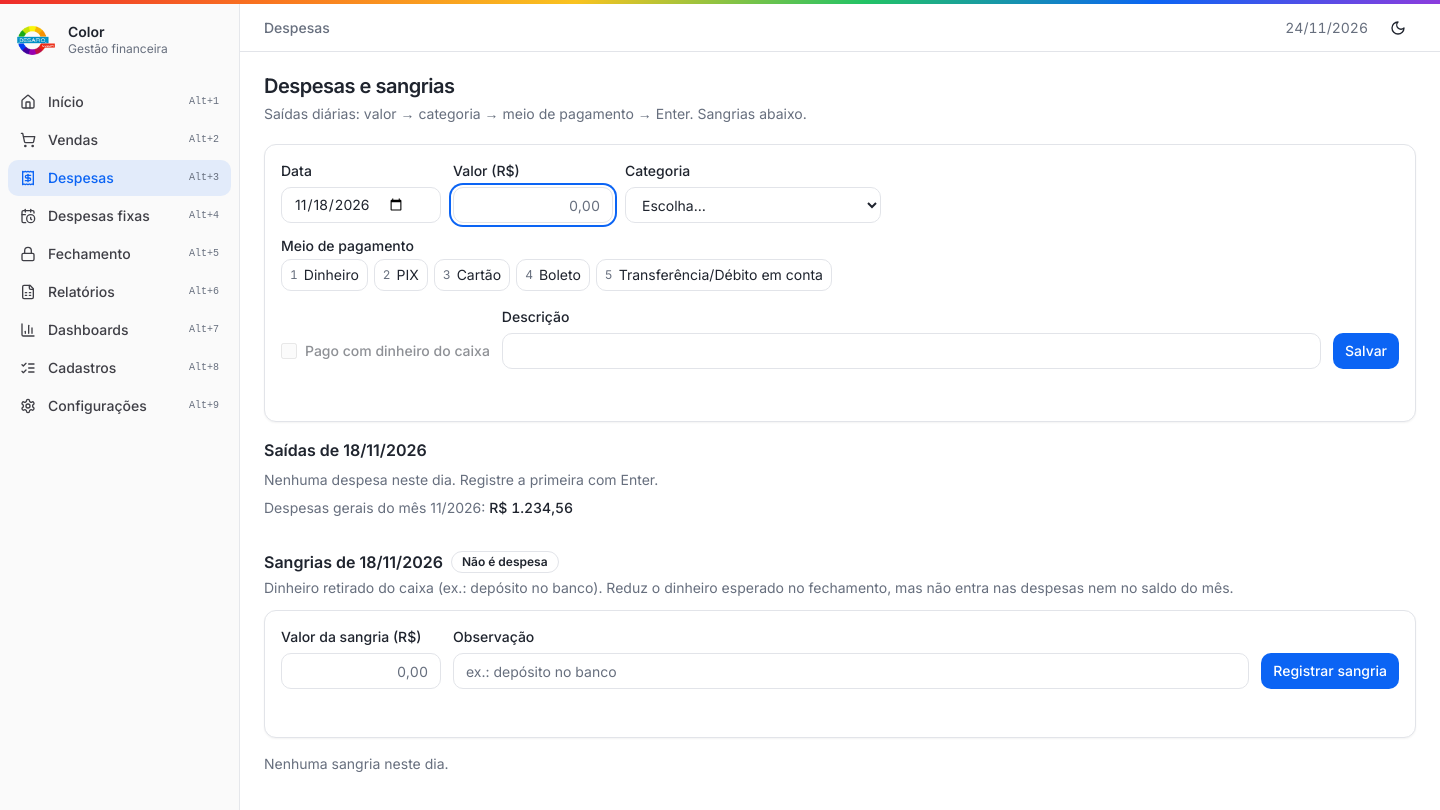
Despesas (FR-06) › FR-06: saves R$ 45,00 in Abastecimento moto, cash from the till; keeps the date and returns focus to Valor
Check: the date field labelled "Data" holds "2026-11-18", box [281,187,441,223]
In the field labelled "Valor (R$)": (533, 205) [453,187,613,223], type "45"
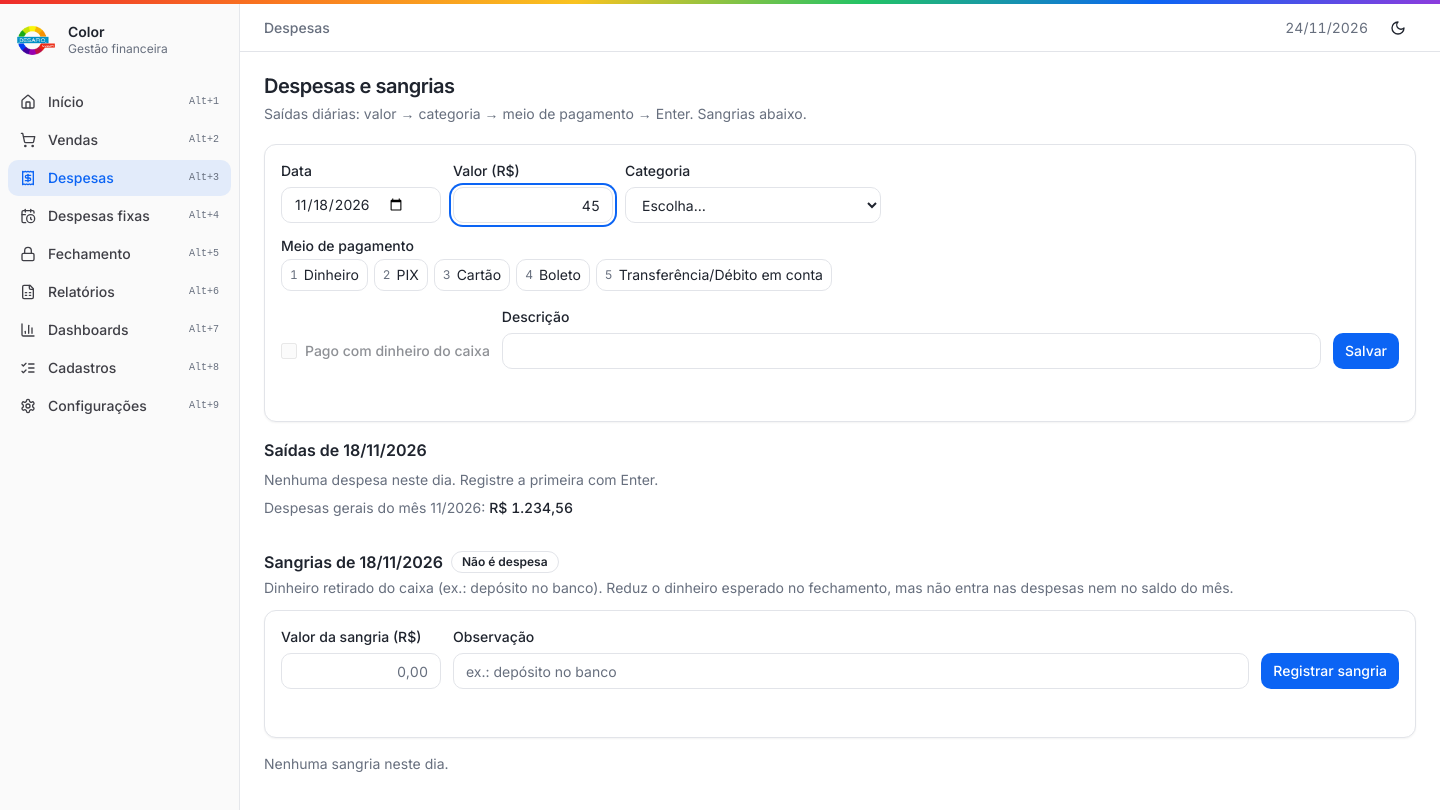
Select "Abastecimento moto" in the dropdown labelled "Categoria": (753, 205) [625,187,881,223]
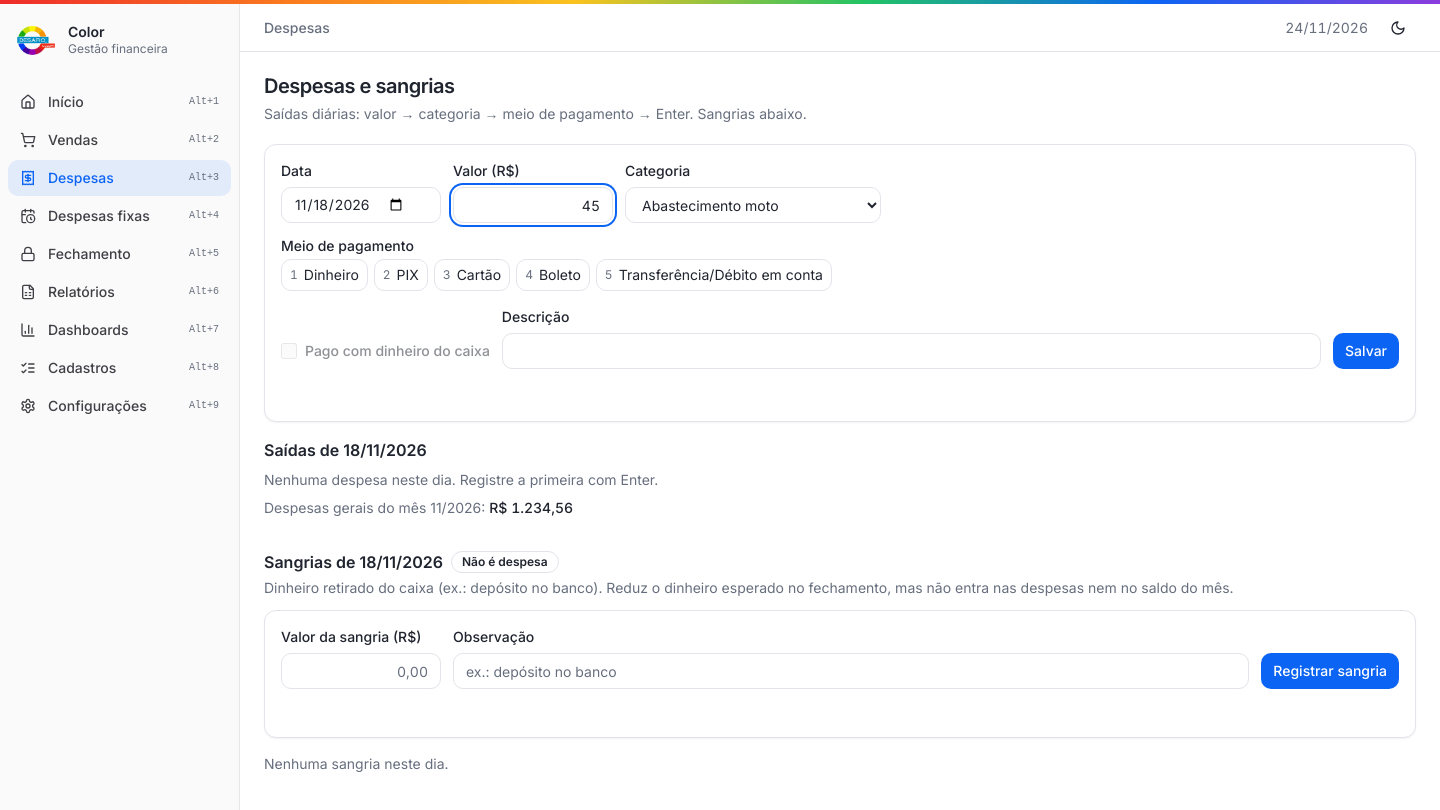
Click the radio button labelled "1 Dinheiro": (324, 275) [281,259,368,291]
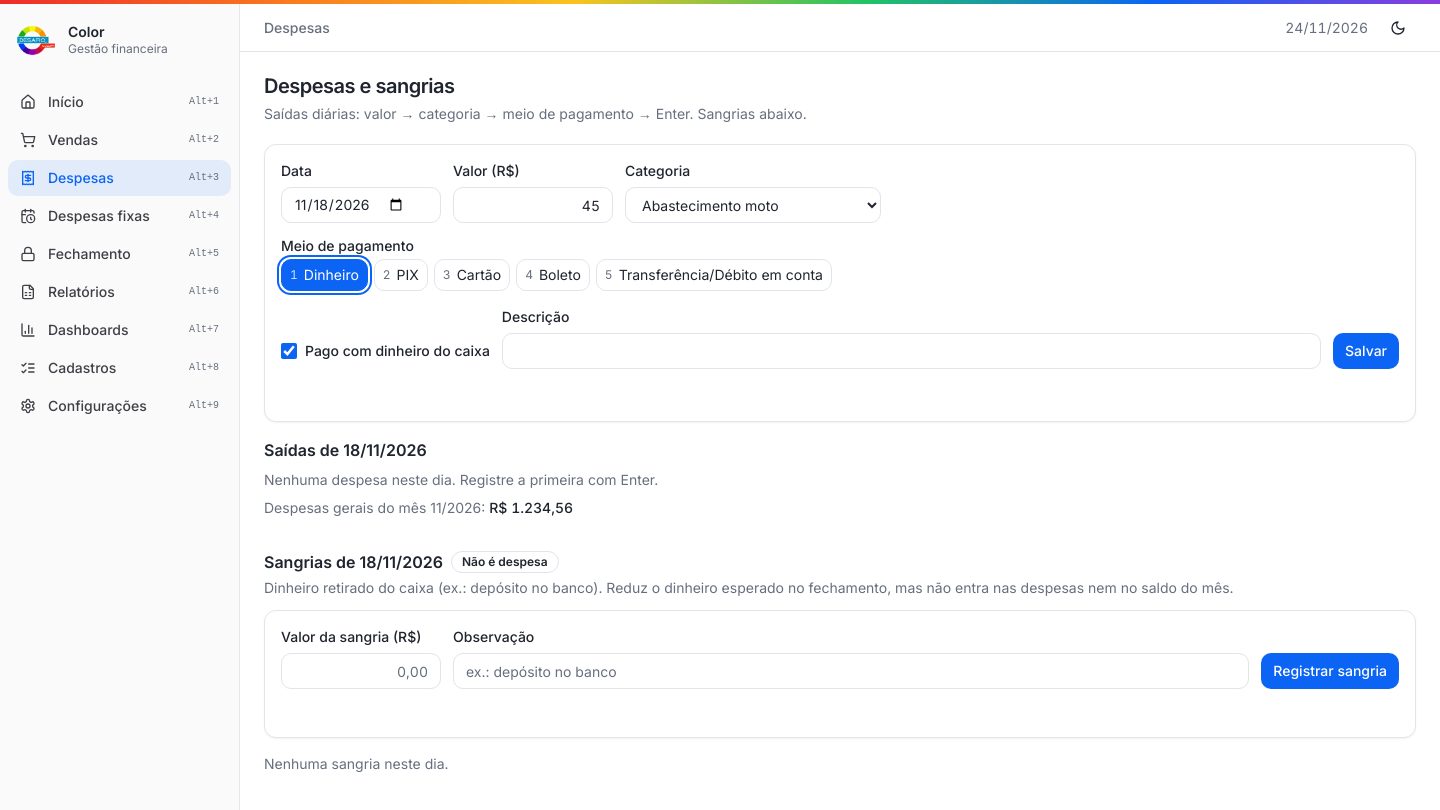
Submit the form labelled "Valor (R$)", box [281,161,1399,405]
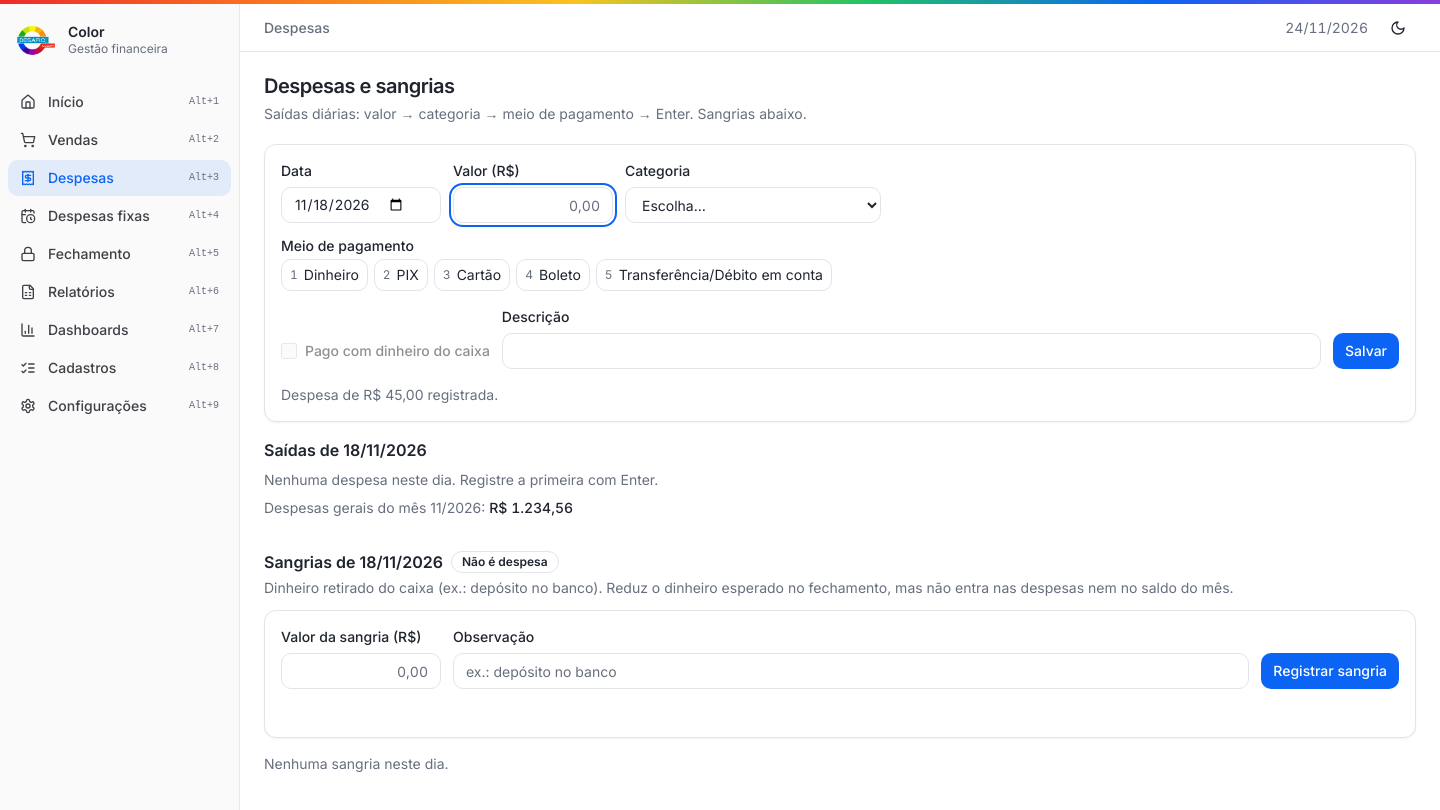
Check: the date field labelled "Data" holds "2026-11-18", box [281,187,441,223]
Check: the text "Despesa de R$ 45,00 registrada." is shown, box [281,386,498,403]
Check: the field labelled "Valor (R$)" is empty, box [453,187,613,223]
